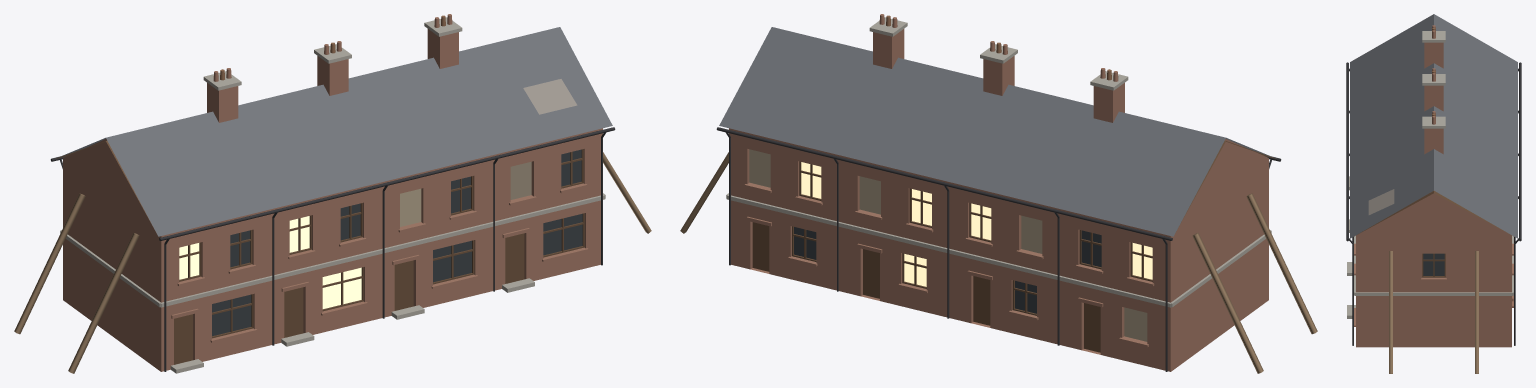
The model's file is prole_terrace.glb.
3 renders of one model, left to right at view 1: azimuth 30°, elevation 25°; view 2: azimuth 150°, elevation 25°; view 3: azimuth 270°, elevation 25°, orthographic. The views are drawn at different scales.
Visible parts, largest first — view 1: prole_terrace; view 2: prole_terrace; view 3: prole_terrace.
Part boxes in pixels (box(x1,y1,x2,y2)): prole_terrace: box(14, 14, 651, 373); prole_terrace: box(680, 14, 1317, 373); prole_terrace: box(1346, 14, 1521, 373).
Size of the model in its own units: 27.37 by 10.8 by 8.98.
